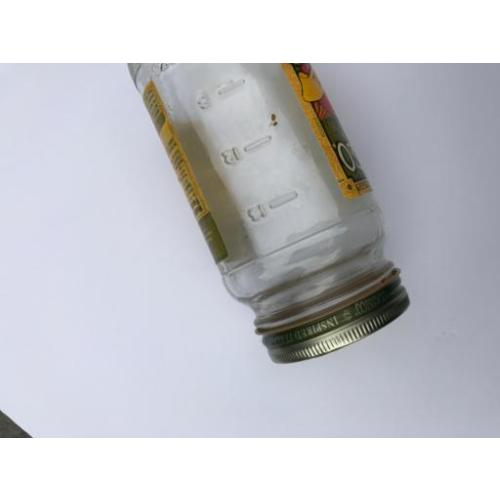glass: (128, 64, 409, 363)
